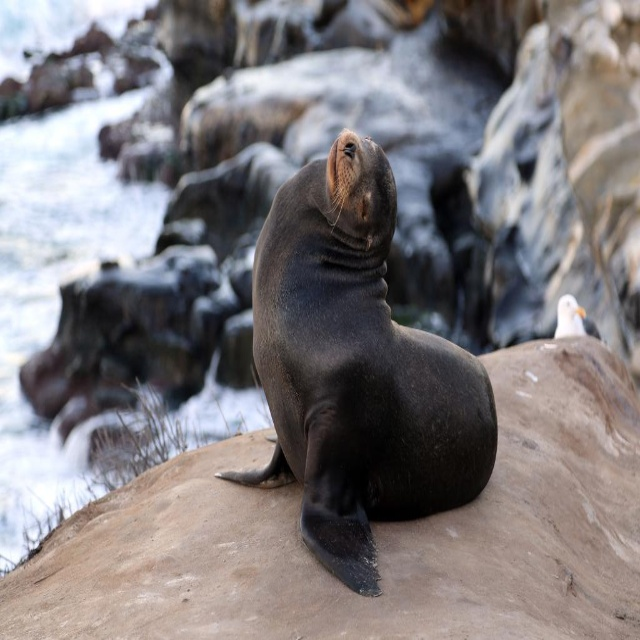Sea lion: (216, 125, 497, 597)
